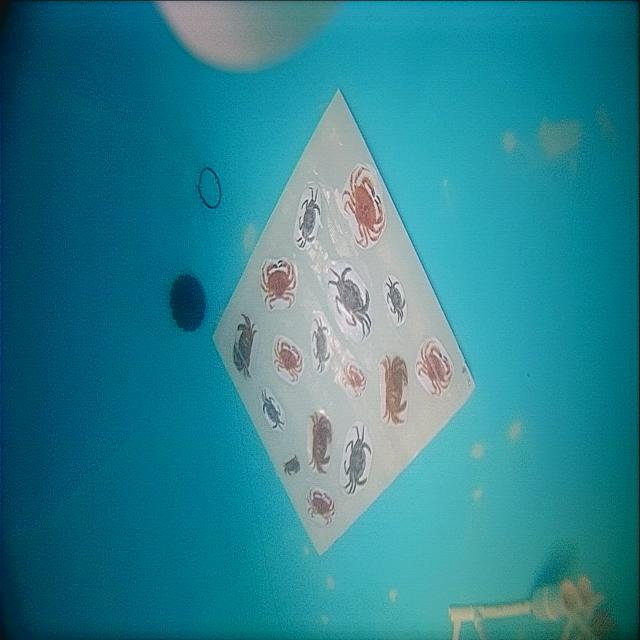GreenCrab: (328, 267, 371, 339), (344, 424, 372, 493), (297, 187, 321, 248), (312, 318, 330, 372), (385, 277, 406, 320)
